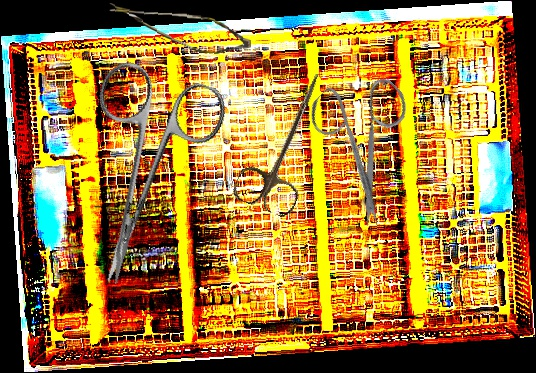Iris Scissors: (46, 56, 232, 300), (278, 52, 456, 231), (230, 61, 344, 220)
Micro Scissor: (104, 2, 254, 57)
